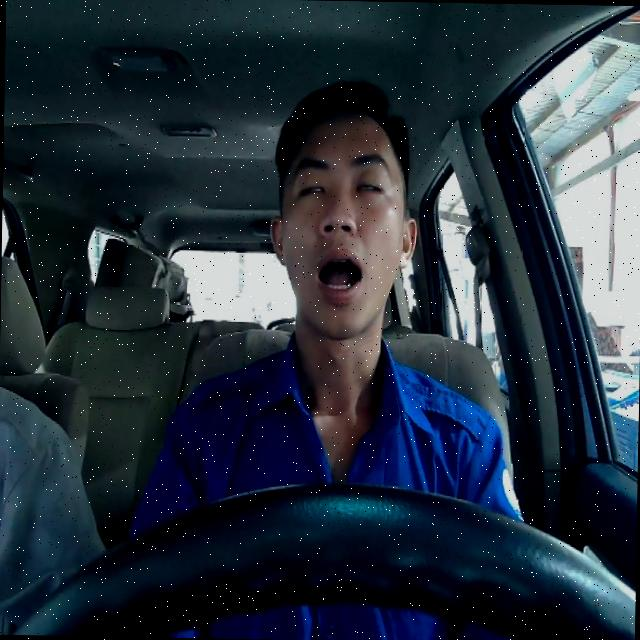yarning: (266, 106, 418, 340)
